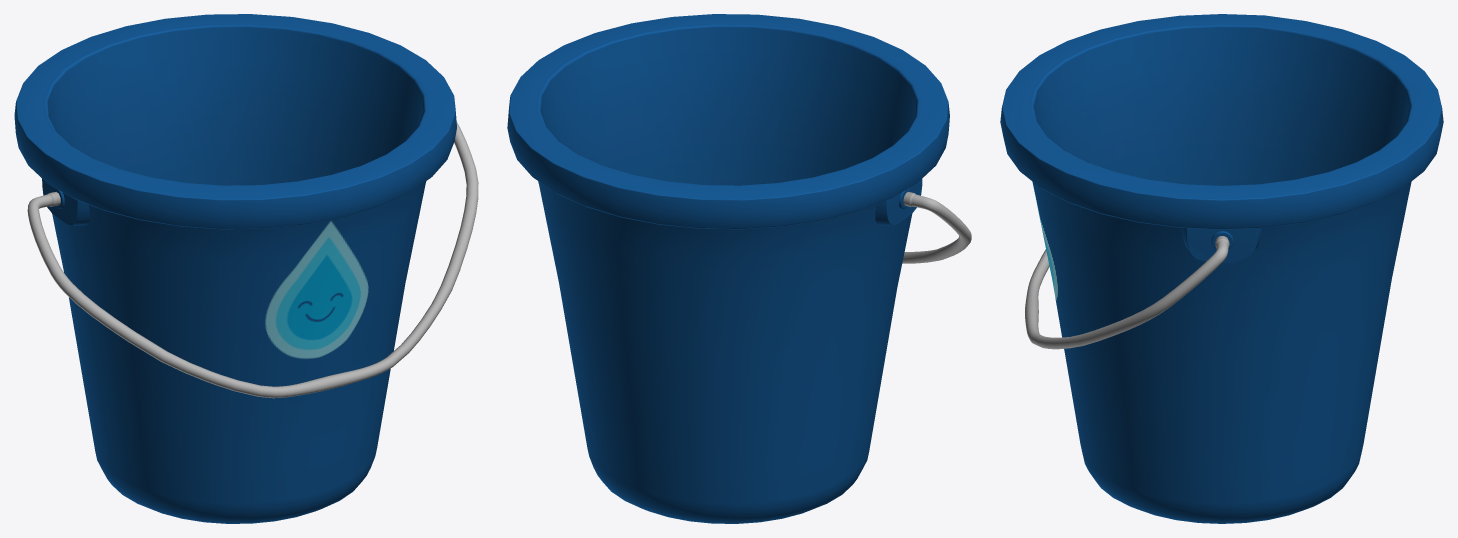
The model's file is bucket1.glb.
3 renders of one model, left to right at view 1: azimuth 30°, elevation 25°; view 2: azimuth 150°, elevation 25°; view 3: azimuth 270°, elevation 25°, orthographic.
Visible parts, largest first — view 1: node_id30; view 2: node_id30; view 3: node_id30.
Boxes of the visible parts, bbox=[...] form: node_id30: bbox=[14, 14, 478, 523]; node_id30: bbox=[507, 14, 971, 523]; node_id30: bbox=[1000, 14, 1443, 523].
Bounding box in the file's own units: 0.512 × 0.4266 × 0.4598.
Materials: 1 (1 with a texture image).
